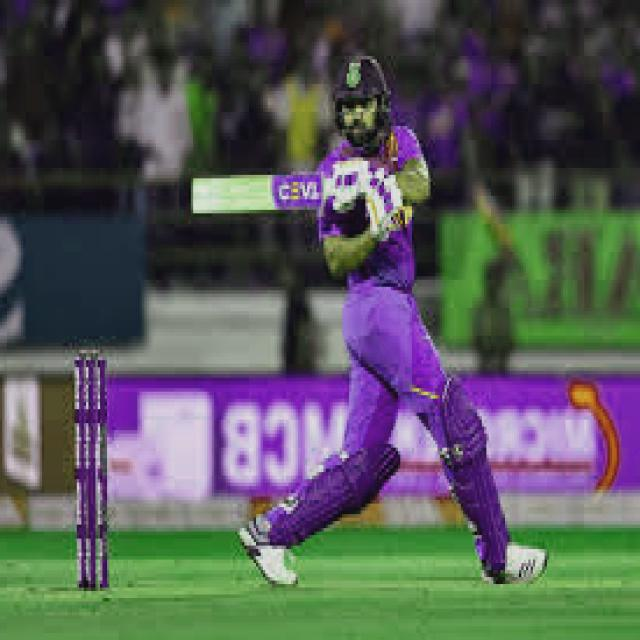toe: (186, 178, 207, 216)
